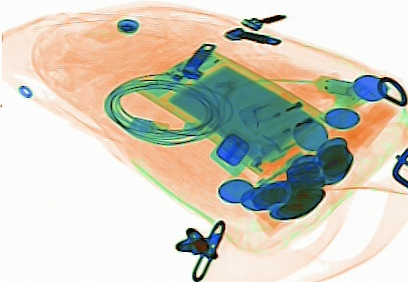lighter: (258, 99, 345, 164), (239, 76, 334, 127)
